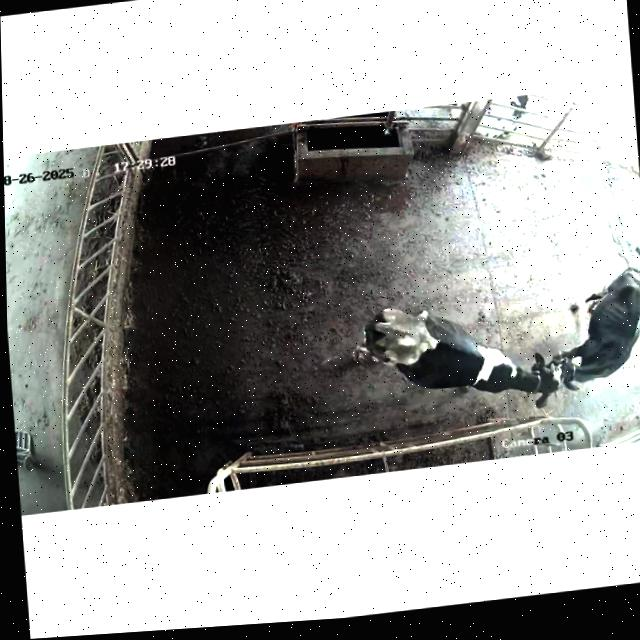stand: (359, 277, 569, 429), (550, 249, 640, 407)
